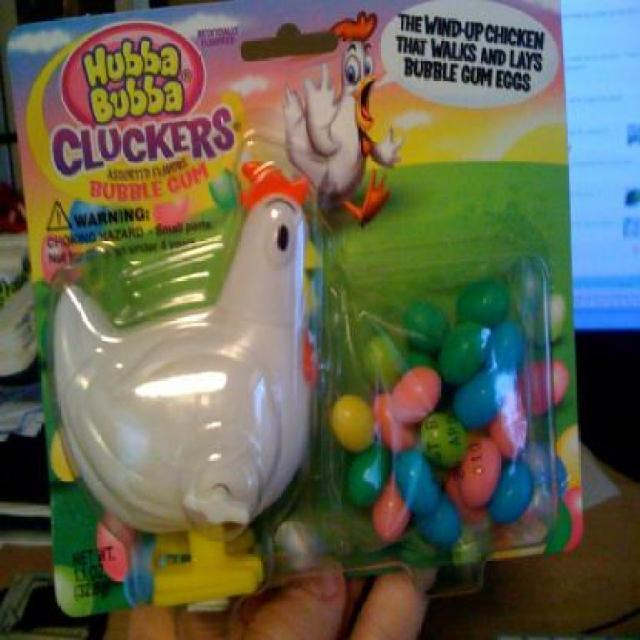Candy: (333, 269, 578, 562), (126, 540, 180, 602), (94, 512, 140, 582), (38, 228, 84, 287), (68, 196, 107, 249), (49, 426, 83, 484), (214, 164, 243, 213), (152, 194, 188, 228)
